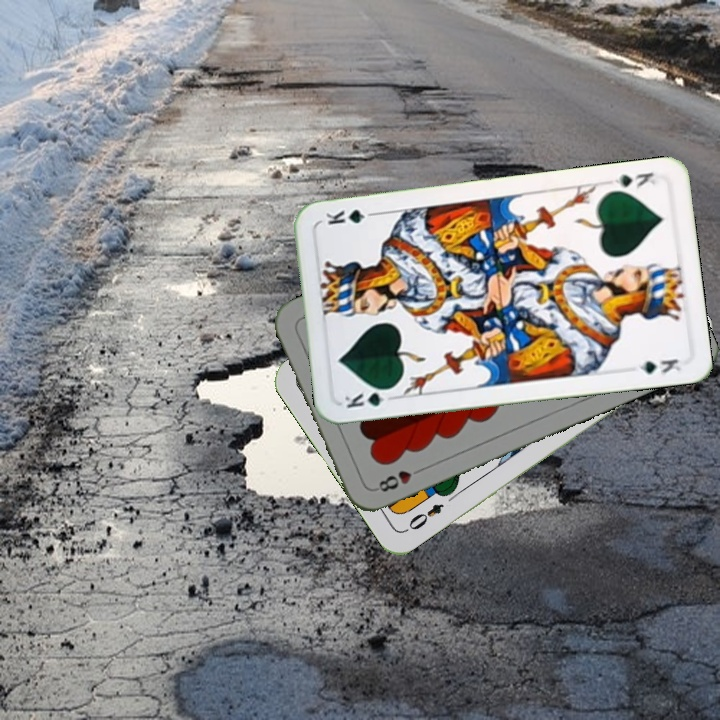EO: (401, 499, 447, 535)
GK: (340, 384, 397, 411), (611, 168, 658, 191)
H8: (371, 463, 427, 495)
